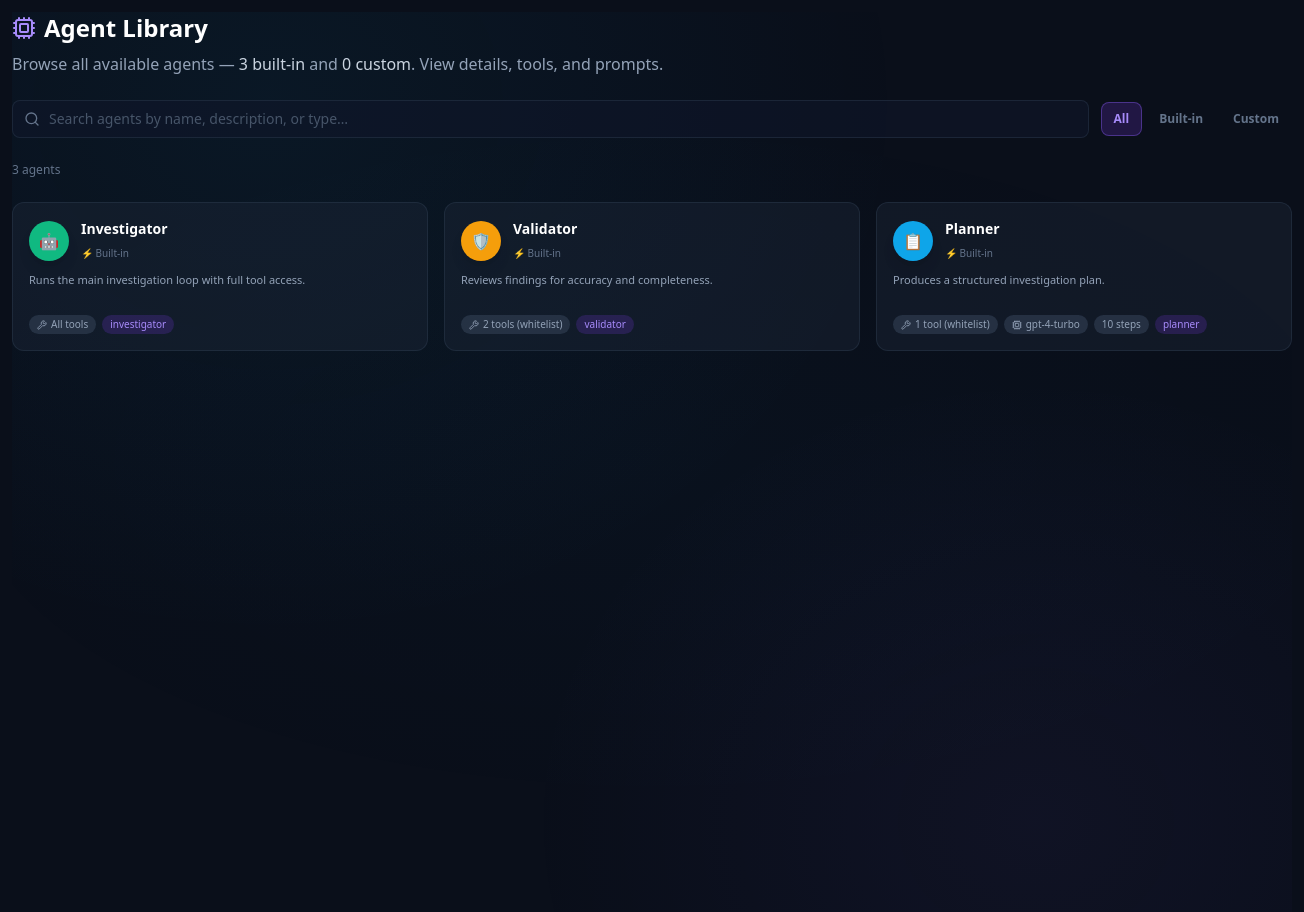
AgentLibrary › filters agents by search text
Type "Investigator" into the field with placeholder "Search agents by name, description, or type…" at point(550, 119), box x1=12 y1=100 x2=1089 y2=138
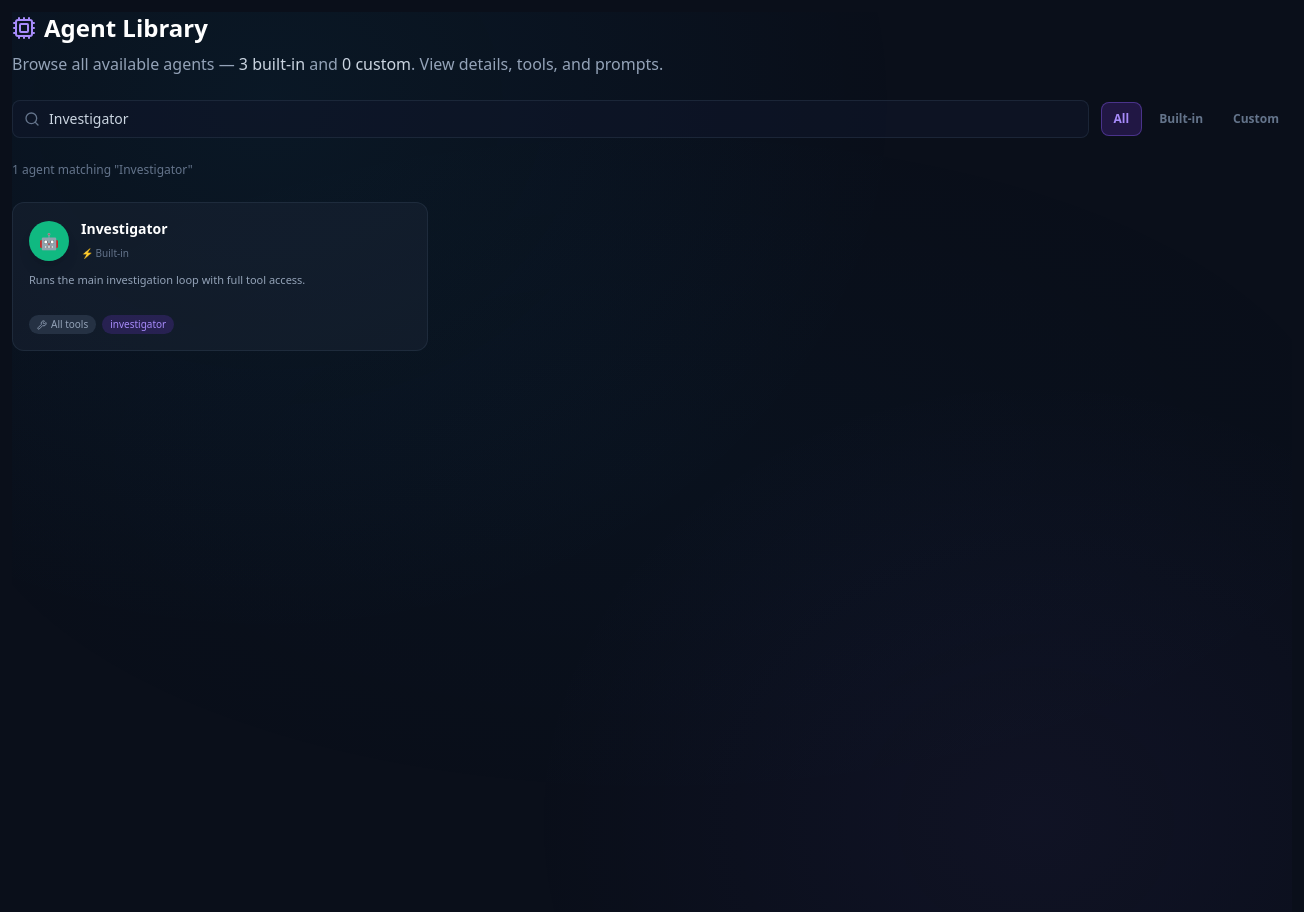
Expected: the heading "Investigator" is shown, x1=81 y1=219 x2=168 y2=238
Expected: the heading "Validator" is gone
Expected: the heading "Planner" is gone
